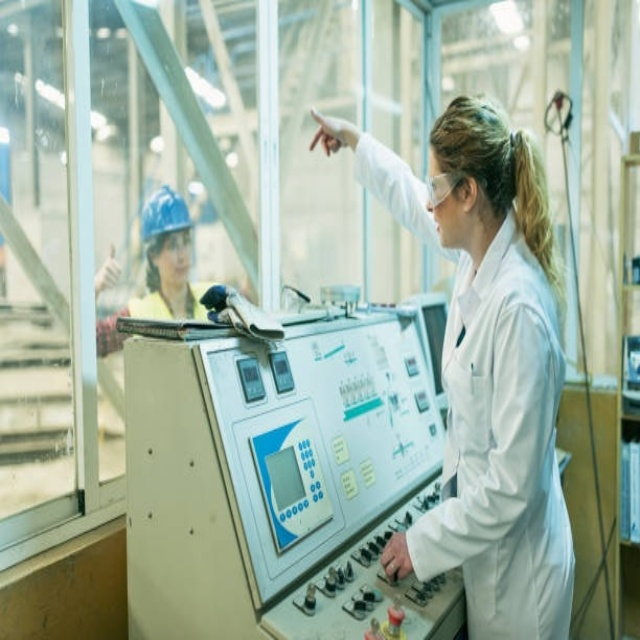Gafas: (419, 166, 465, 209)
Sin_guantes: (378, 528, 414, 584), (308, 107, 344, 157), (96, 243, 123, 295)
Sin_mascara: (431, 213, 457, 249), (167, 257, 193, 285)
